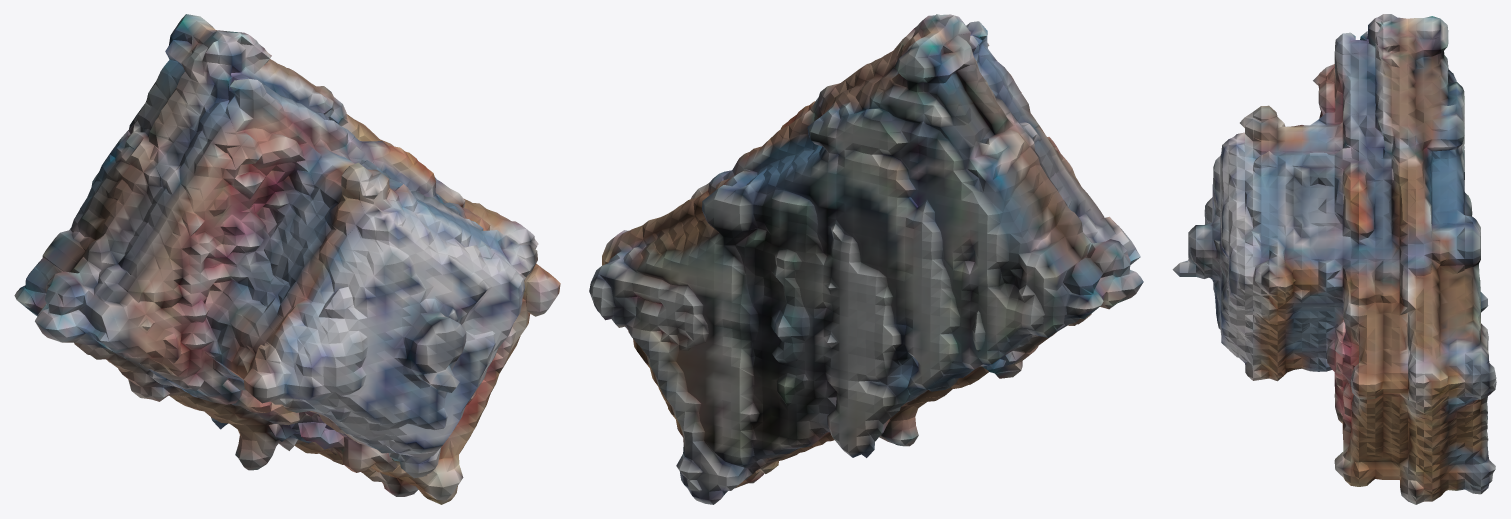
The model's file is single_view_seed.glb.
3 renders of one model, left to right at view 1: azimuth 30°, elevation 25°; view 2: azimuth 150°, elevation 25°; view 3: azimuth 270°, elevation 25°, orthographic. The views are drawn at different scales.
Parts seen in each view (by area): view 1: world; view 2: world; view 3: world.
Boxes of the visible parts, x1,y1,x2,y2 form: world: (14,14,560,504); world: (589,14,1143,504); world: (1172,14,1496,504).
Bounding box in the file's own units: 1.07 × 1.02 × 0.7291.
